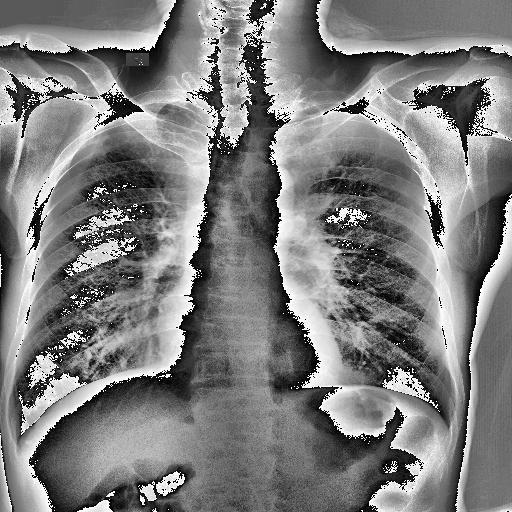13- Pulmonary fibrosis: (86, 133, 116, 158), (84, 134, 112, 158)
7- Lung Opacity: (84, 134, 114, 152)
